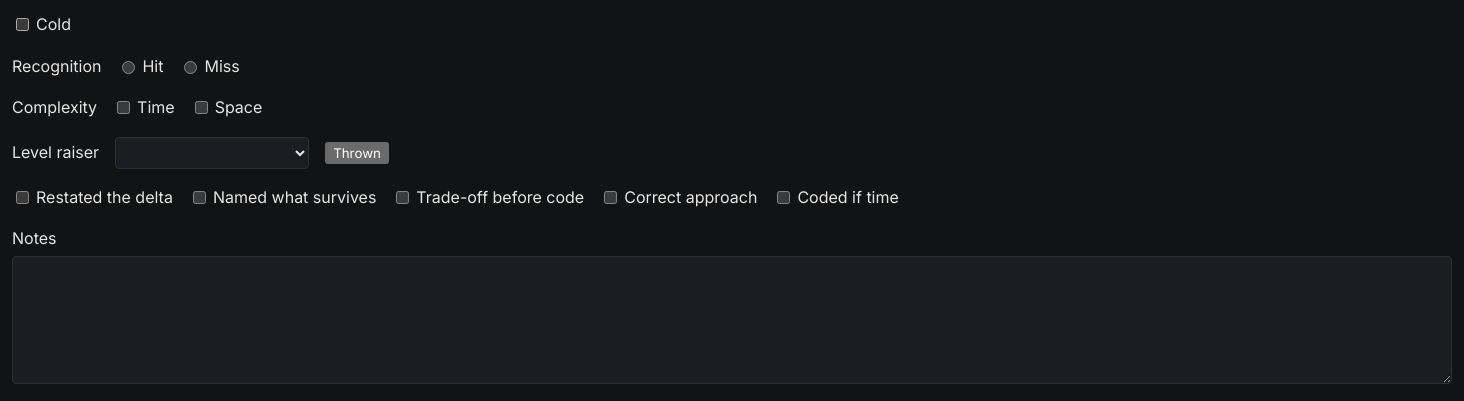
InterviewNotesComponent › the verdict mark follows the checkboxes: approach and three others
The width and height of the screenshot is (1464, 401).
Step 1. Select "Stream / online" in the dropdown with class "interview-notes__move" → (212, 153), box top-left (115, 137), bottom-right (309, 169)
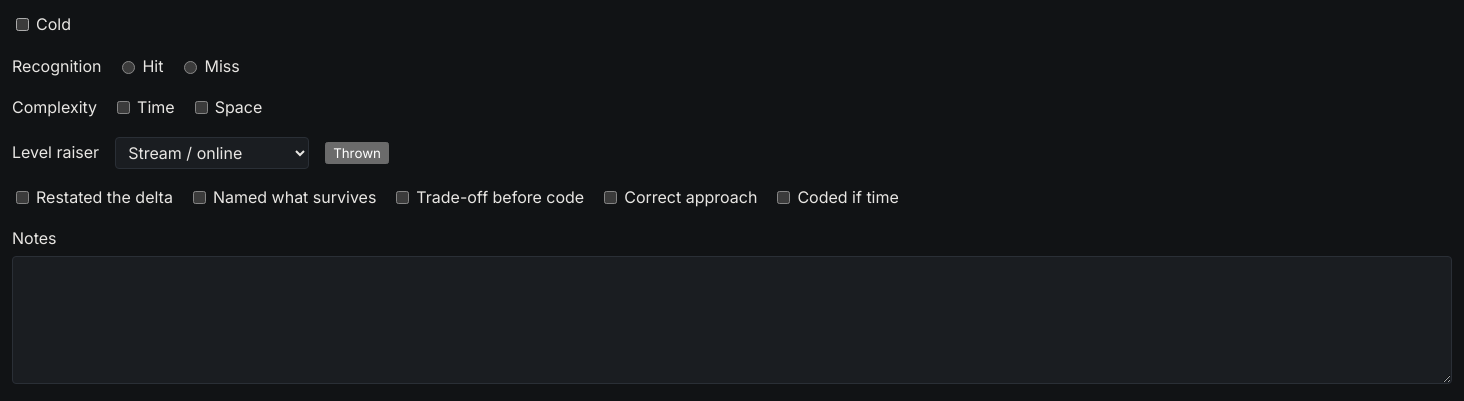
Step 2. Click the checkbox with class "interview-notes__check-approach" → (611, 198), box top-left (604, 191), bottom-right (617, 204)
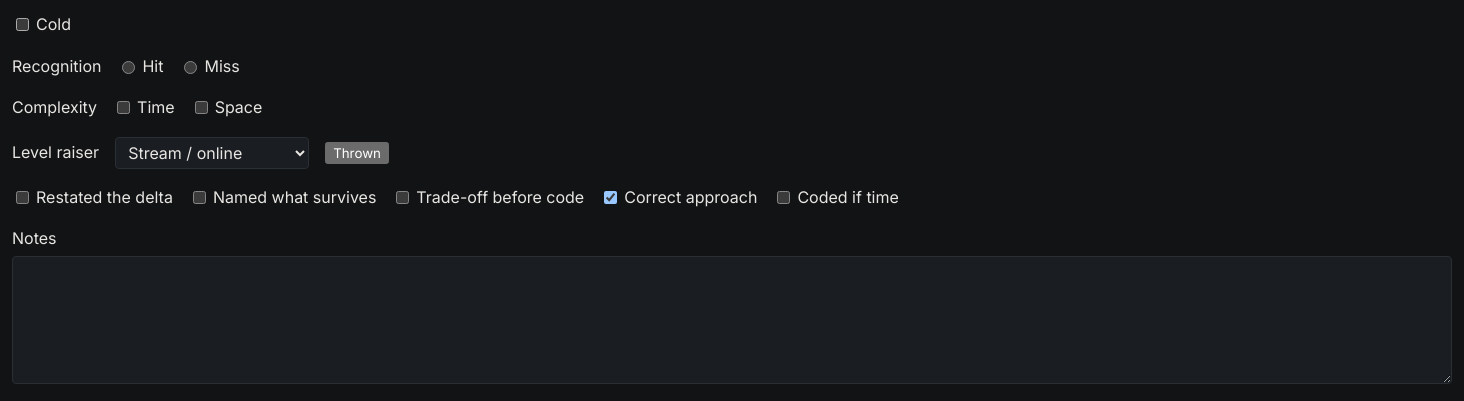
Step 3. Click the checkbox with class "interview-notes__check-restated" → (22, 198), box top-left (16, 191), bottom-right (29, 204)
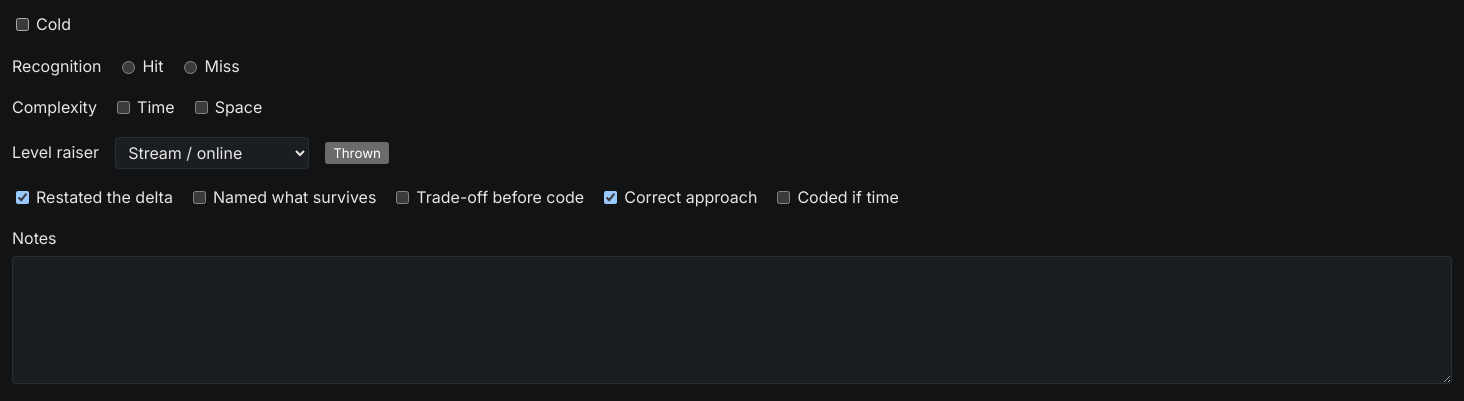
Step 4. Click the checkbox with class "interview-notes__check-survives" → (199, 198), box top-left (193, 191), bottom-right (206, 204)
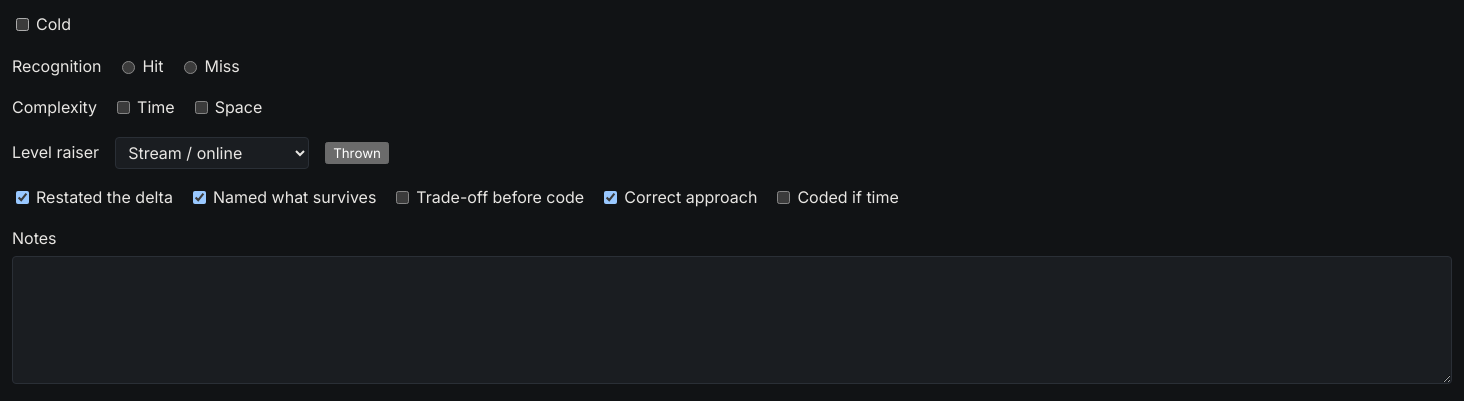
Step 5. Click the checkbox with class "interview-notes__check-tradeoff" → (403, 198), box top-left (396, 191), bottom-right (409, 204)
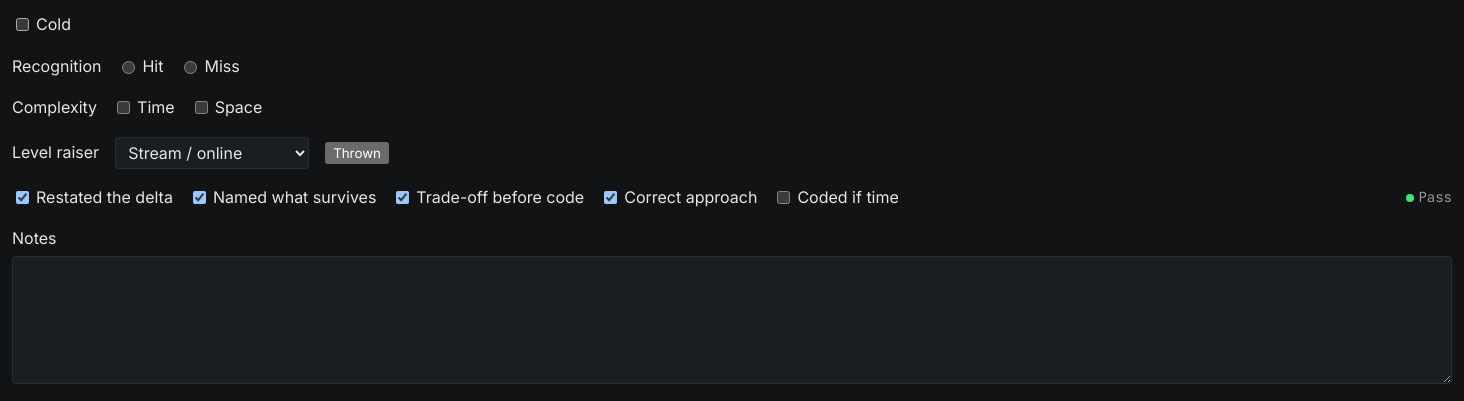
Check: the element with class "interview-notes__verdict" reads "Pass", box top-left (1418, 188), bottom-right (1452, 206)
